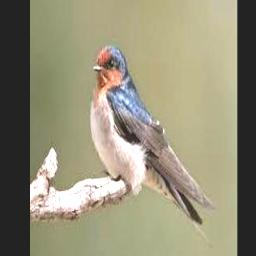Swallow: (89, 45, 218, 248)
